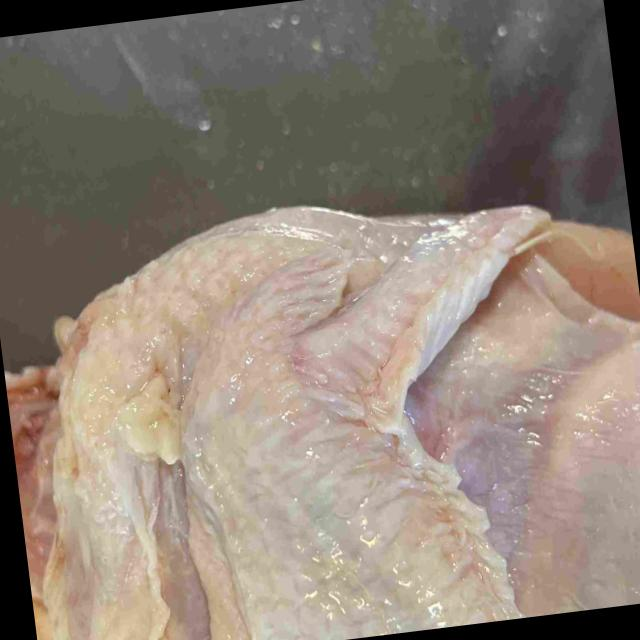leg: (517, 339, 640, 616)
wing: (182, 202, 555, 640)
